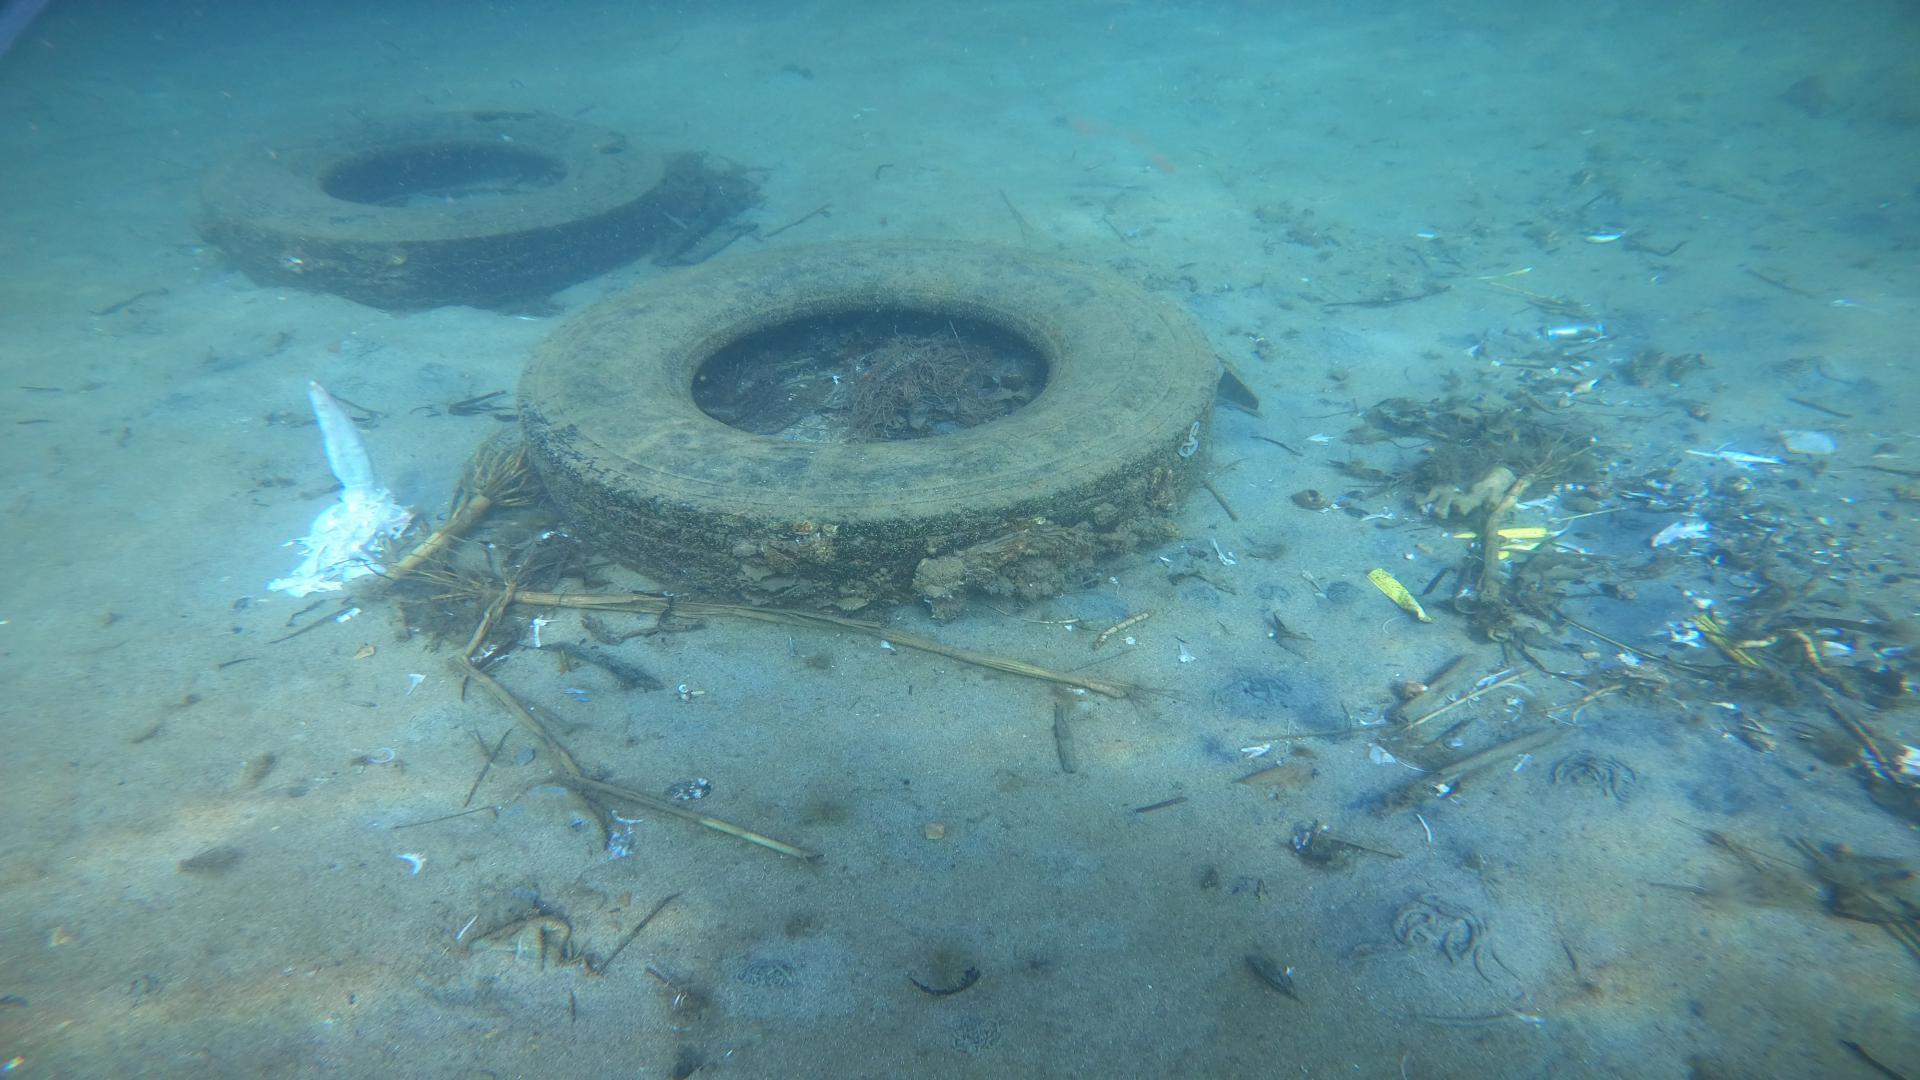tire: (514, 235, 1217, 616), (199, 105, 666, 305)
